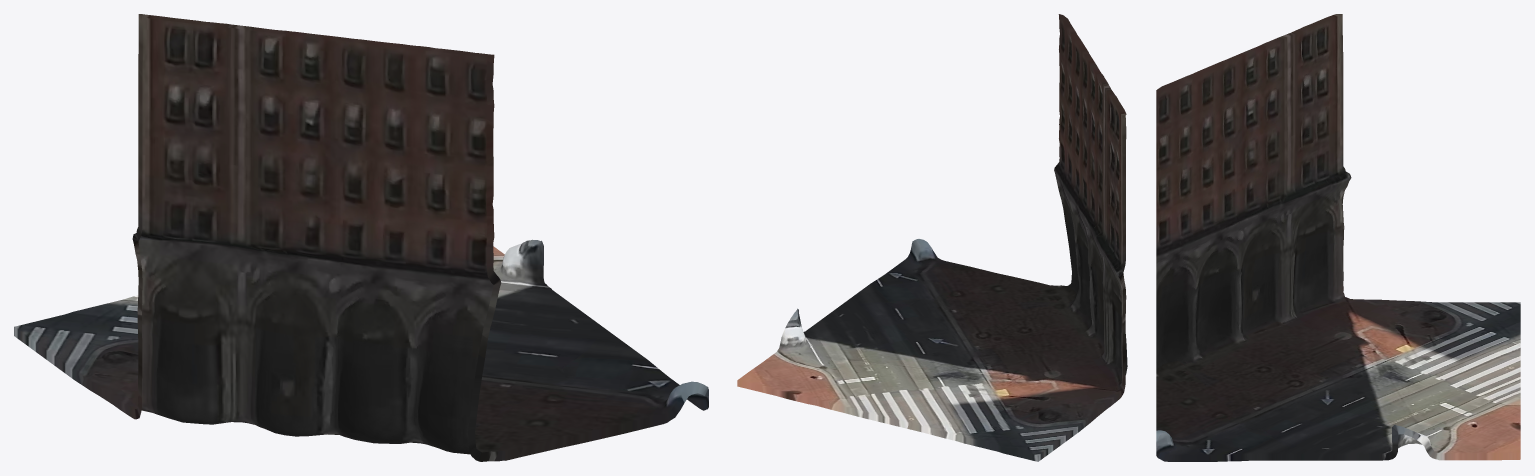
File: z20-167785-405226-h0-yup-uvflip-v3-world.glb
The picture shows the model from 3 angles, left to right: view 1: azimuth 30°, elevation 25°; view 2: azimuth 150°, elevation 25°; view 3: azimuth 270°, elevation 25°; orthographic projection. The views are drawn at different scales.
Bounding box in the file's own units: 30.16 × 27.08 × 30.32.
1 material, 1 textured.
